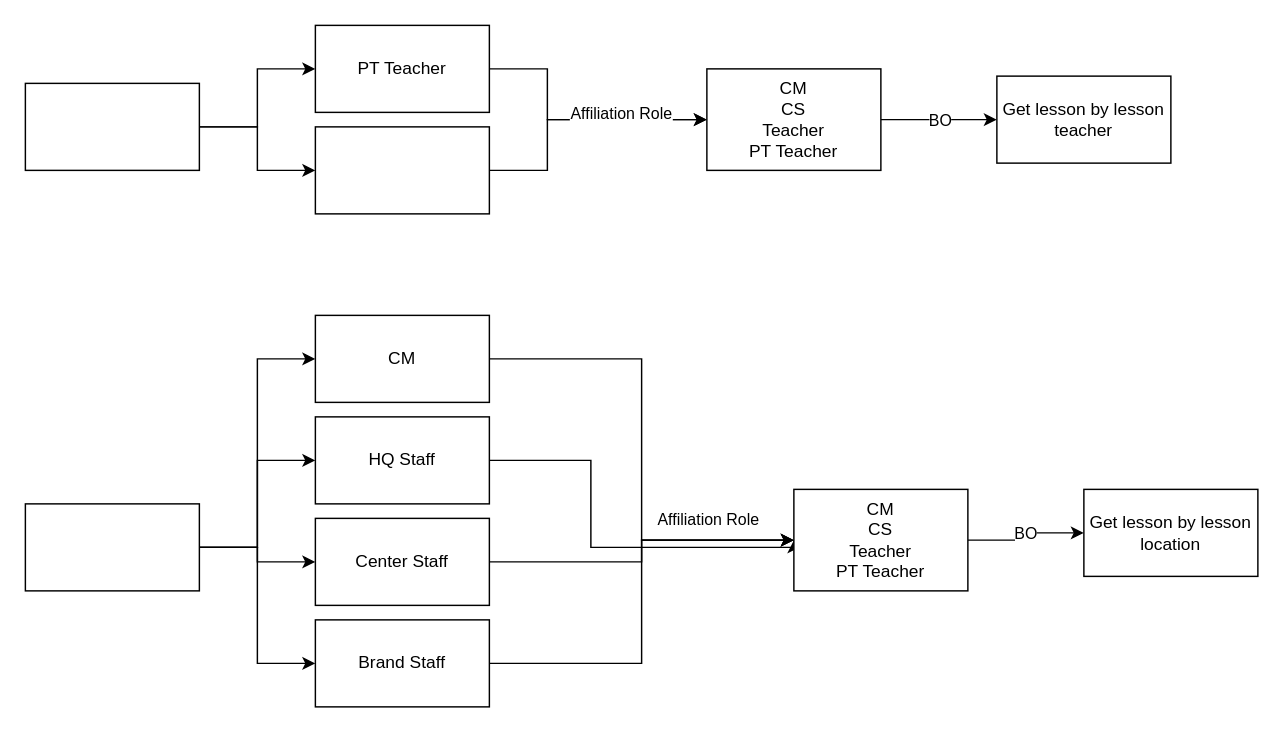
Image size: 1283x732. Some labels were removed from this diagram. Each missing label, with the box of its shape:
CPU: (24, 82, 199, 170)
SPU: (24, 502, 199, 591)
Teacher: (314, 125, 489, 214)
